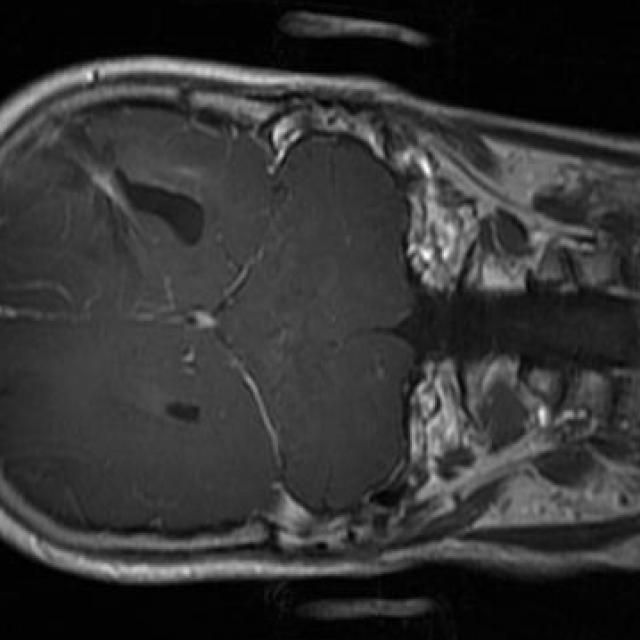glioma: (0, 118, 205, 266)
